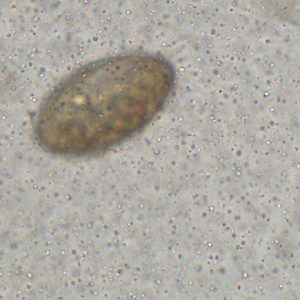Fasciola_hepatica_egg: (33, 53, 176, 155)
